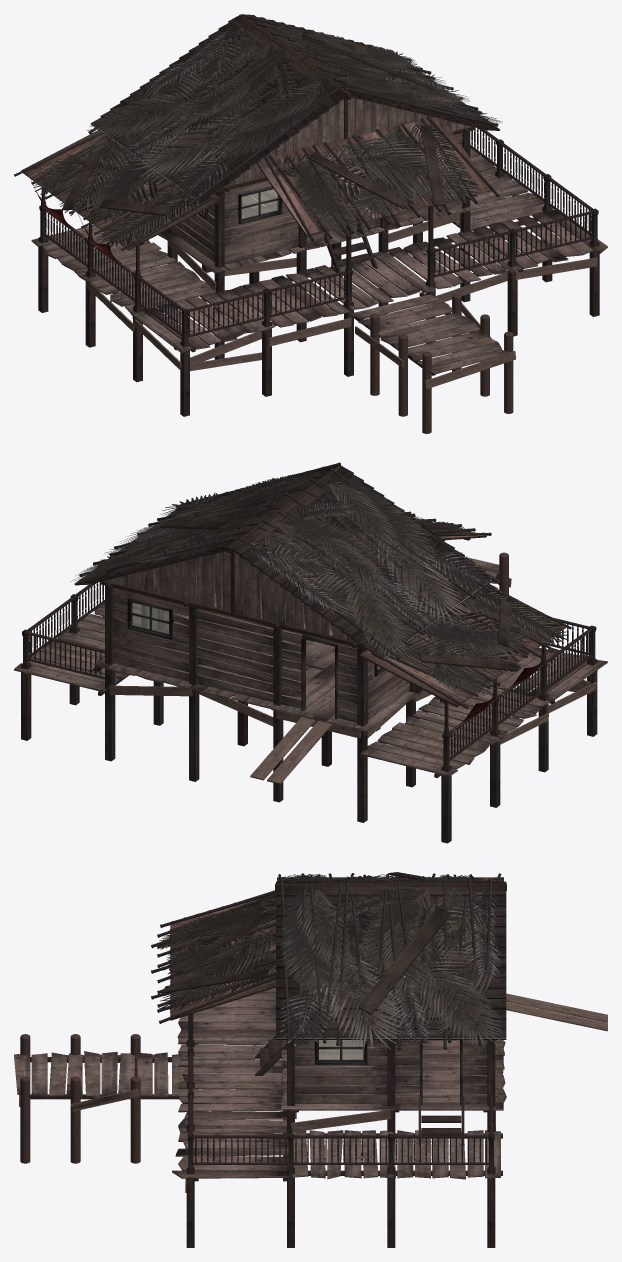
Rendered from pier.glb.
The picture shows the model from 3 angles, top to bottom: view 1: azimuth 30°, elevation 25°; view 2: azimuth 150°, elevation 25°; view 3: azimuth 270°, elevation 25°; orthographic projection. The views are drawn at different scales.
Visible parts, largest first — view 1: VALVoodoohut_MainB.Shape; view 2: VALVoodoohut_MainB.Shape; view 3: VALVoodoohut_MainB.Shape.
Boxes of the visible parts, x1,y1,x2,y2 form: VALVoodoohut_MainB.Shape: [14, 14, 607, 433]; VALVoodoohut_MainB.Shape: [14, 462, 607, 843]; VALVoodoohut_MainB.Shape: [14, 872, 607, 1247].
Bounding box in the file's own units: 14 × 7.37 × 15.15.
11 materials, 9 textured.
